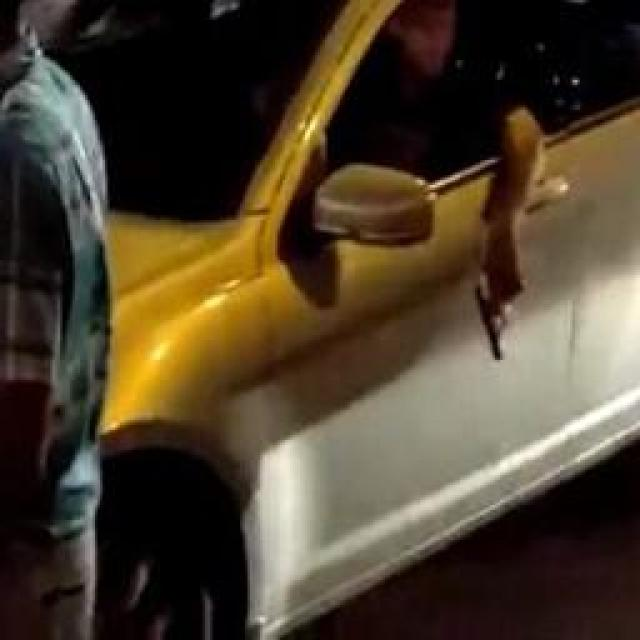Guns: (454, 253, 534, 369)
